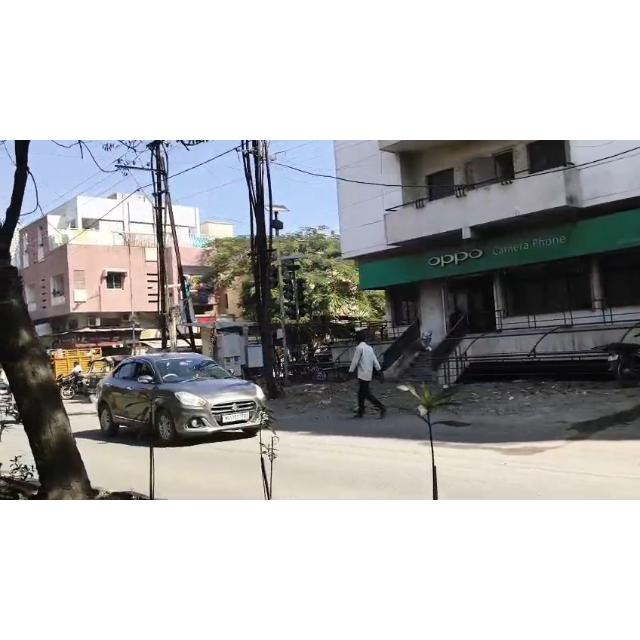car: (94, 344, 294, 450)
